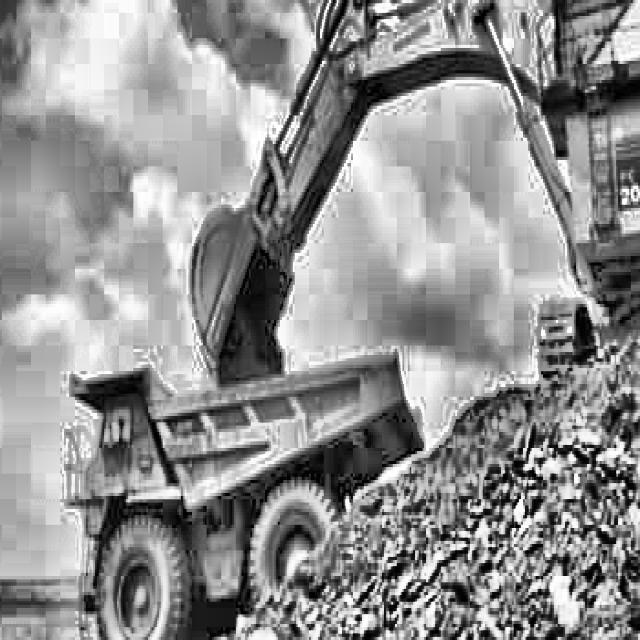dump_truck: (6, 355, 435, 640)
excavator: (157, 0, 640, 339)
